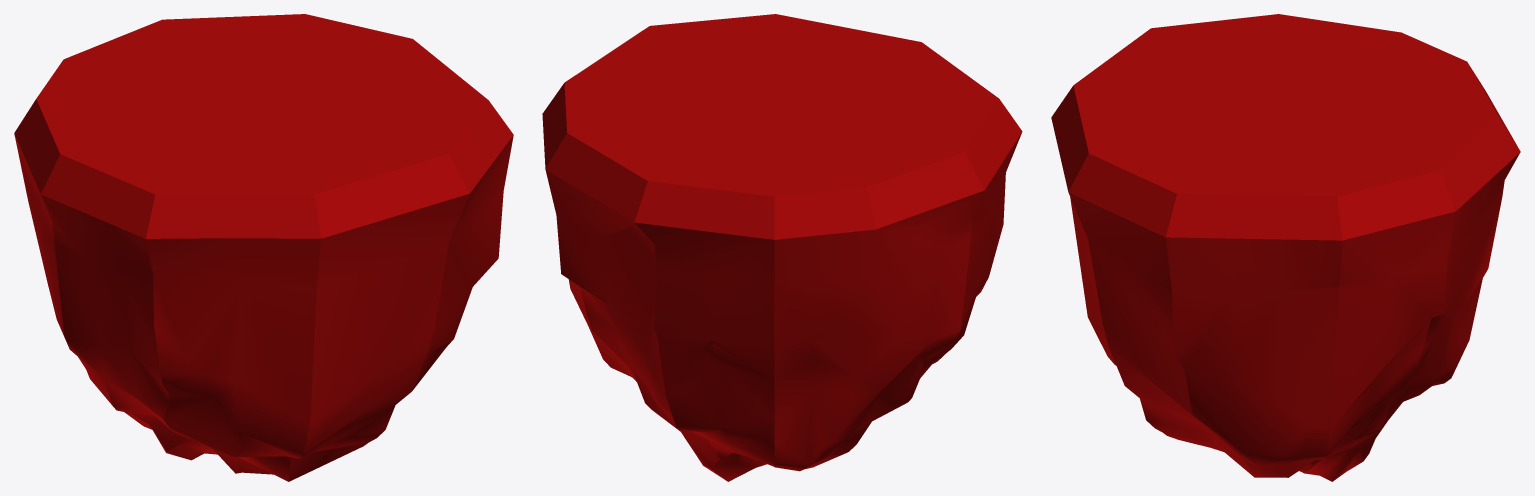
The model's file is Jump_Map_Tiles_10.fbx.
3 renders of one model, left to right at view 1: azimuth 30°, elevation 25°; view 2: azimuth 150°, elevation 25°; view 3: azimuth 270°, elevation 25°, orthographic. The views are drawn at different scales.
Visible parts, largest first — view 1: Jump_Map_Tiles_10; view 2: Jump_Map_Tiles_10; view 3: Jump_Map_Tiles_10.
Part boxes in pixels (<box>): Jump_Map_Tiles_10: <box>14,14,513,481</box>; Jump_Map_Tiles_10: <box>542,14,1022,481</box>; Jump_Map_Tiles_10: <box>1051,14,1520,481</box>.
Bounding box in the file's own units: 4 × 3.33 × 3.93.
